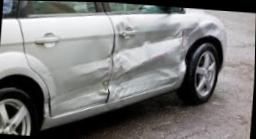Door: (106, 10, 184, 102), (33, 35, 114, 120)
Fender: (176, 9, 227, 87)
